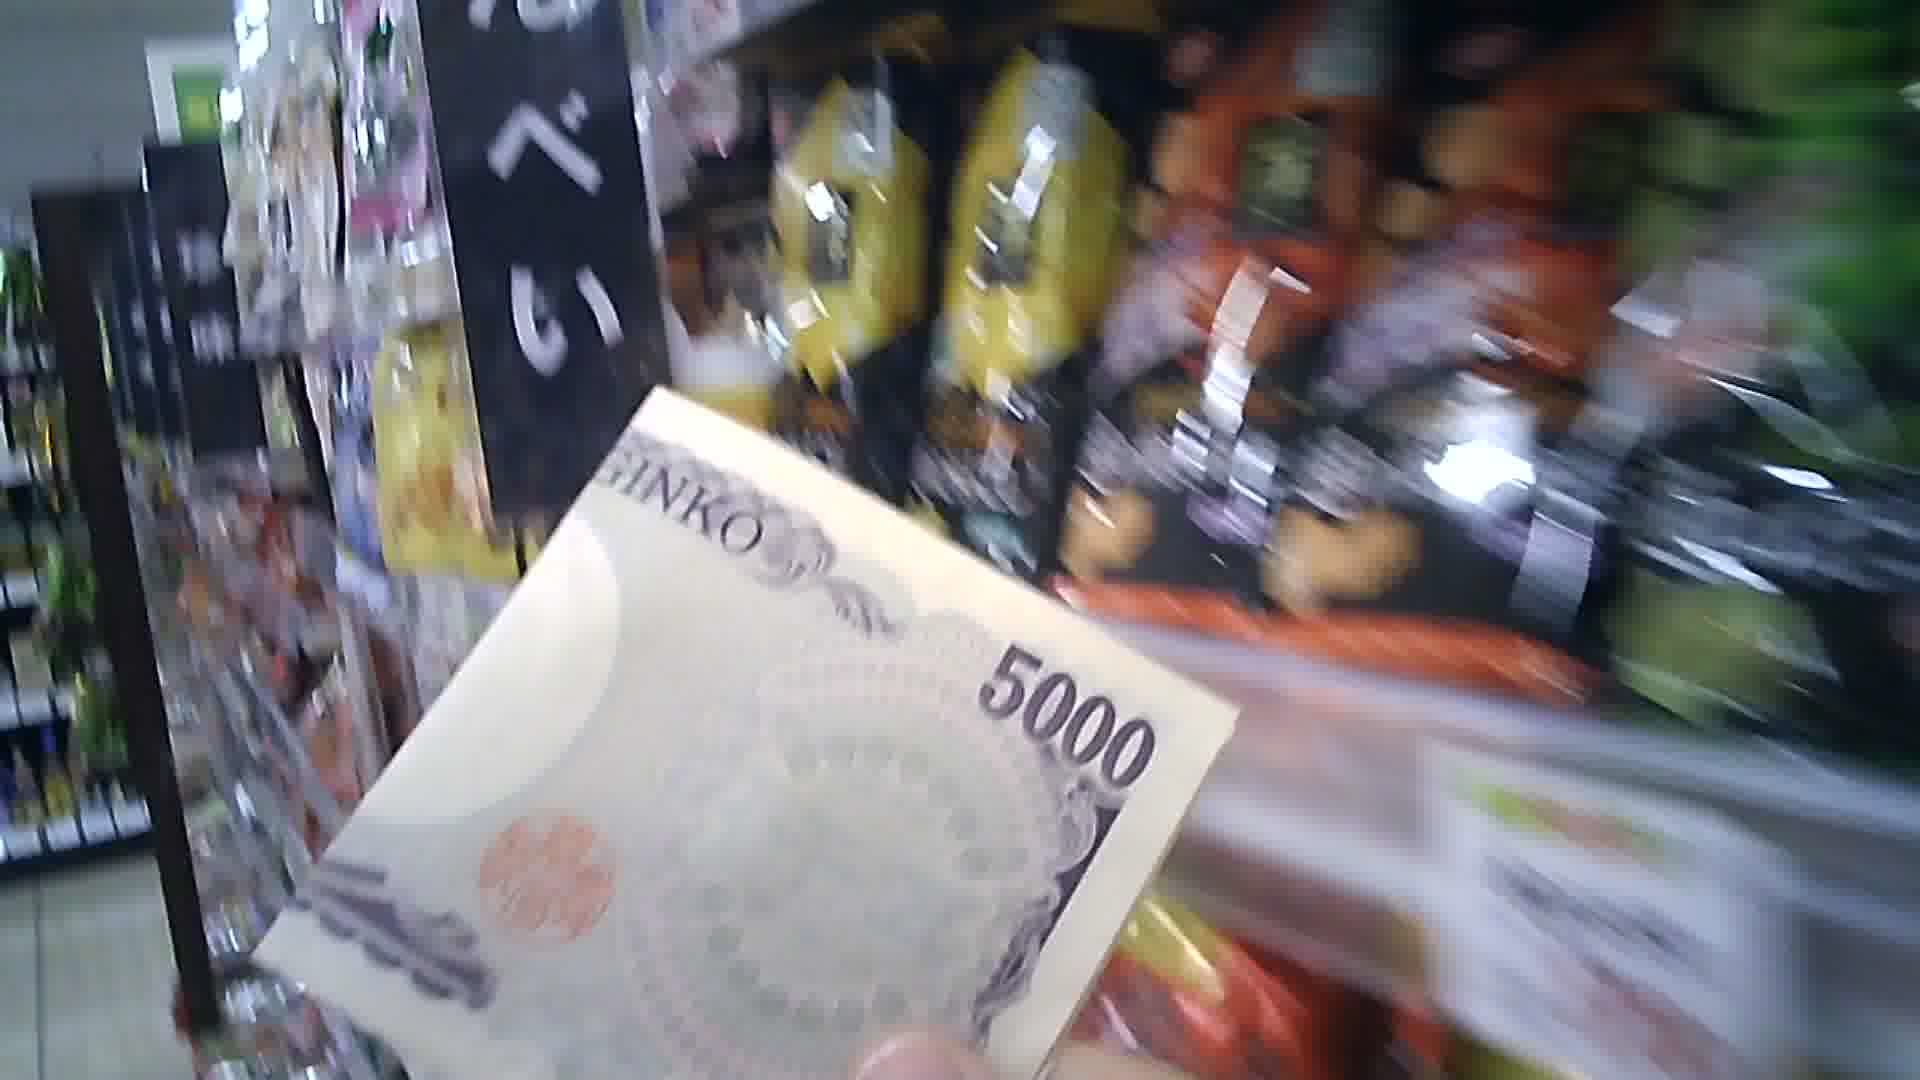5,000 Yen: (241, 338, 1211, 1079)
